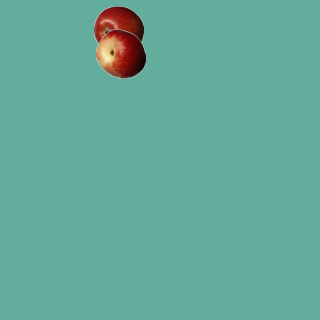Apple Braeburn: (93, 5, 143, 55)
Nectarine: (95, 28, 145, 78)
